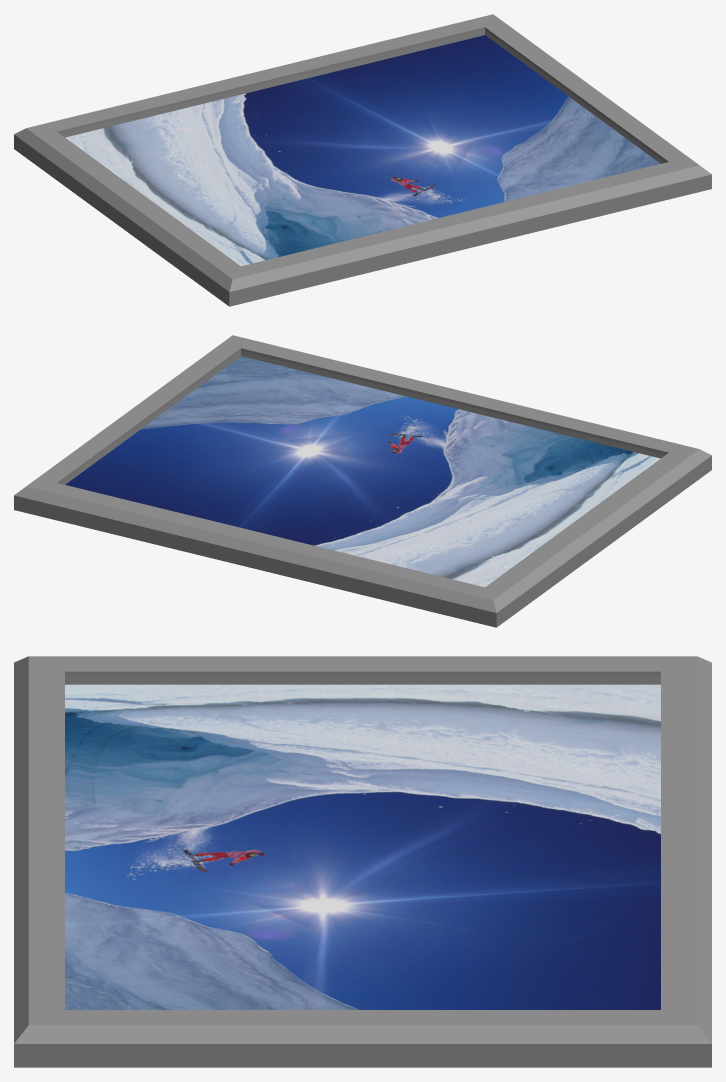
The model's file is Poster frame 1.FBX.
3 views of the same model, one above another, from view 1: azimuth 30°, elevation 25°; view 2: azimuth 150°, elevation 25°; view 3: azimuth 270°, elevation 25° (orthographic). The views are drawn at different scales.
Visible parts, largest first — view 1: Box001; view 2: Box001; view 3: Box001.
Part boxes in pixels (x1=…): Box001: x1=14, y1=14, x2=711, y2=306; Box001: x1=14, y1=335, x2=711, y2=627; Box001: x1=14, y1=656, x2=711, y2=1067.
Bounding box in the file's own units: 17.73 × 0.7823 × 13.71.
